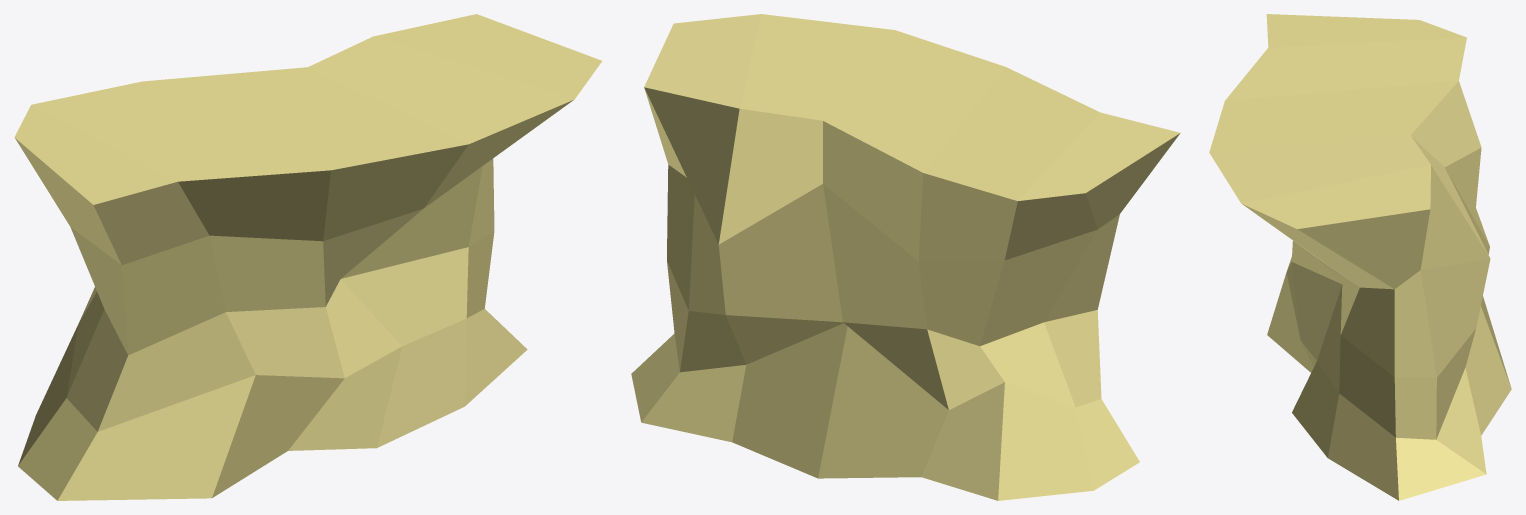
File: Lava_Cliff.FBX
The picture shows the model from 3 angles, left to right: view 1: azimuth 30°, elevation 25°; view 2: azimuth 150°, elevation 25°; view 3: azimuth 270°, elevation 25°; orthographic projection. The views are drawn at different scales.
Parts seen in each view (by area): view 1: Lava_Cliff; view 2: Lava_Cliff; view 3: Lava_Cliff.
Boxes of the visible parts, x1,y1,x2,y2 form: Lava_Cliff: (14, 14, 601, 500); Lava_Cliff: (631, 14, 1180, 500); Lava_Cliff: (1209, 14, 1511, 500).
Bounding box in the file's own units: 229 × 138 × 135.
